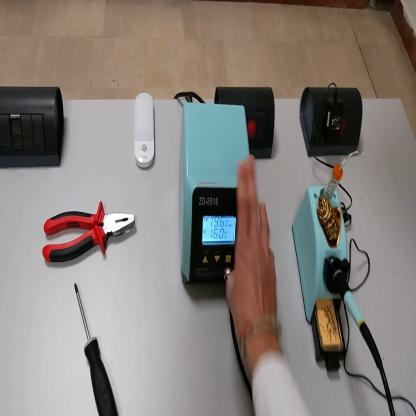hand: (225, 154, 280, 350)
pliers: (43, 200, 140, 267)
screwdriver-: (71, 280, 122, 413)
socket: (298, 83, 369, 163), (211, 77, 274, 152)
welder base: (293, 167, 353, 375)
welder probe tip: (333, 265, 386, 367)
welder station: (179, 104, 253, 290)
